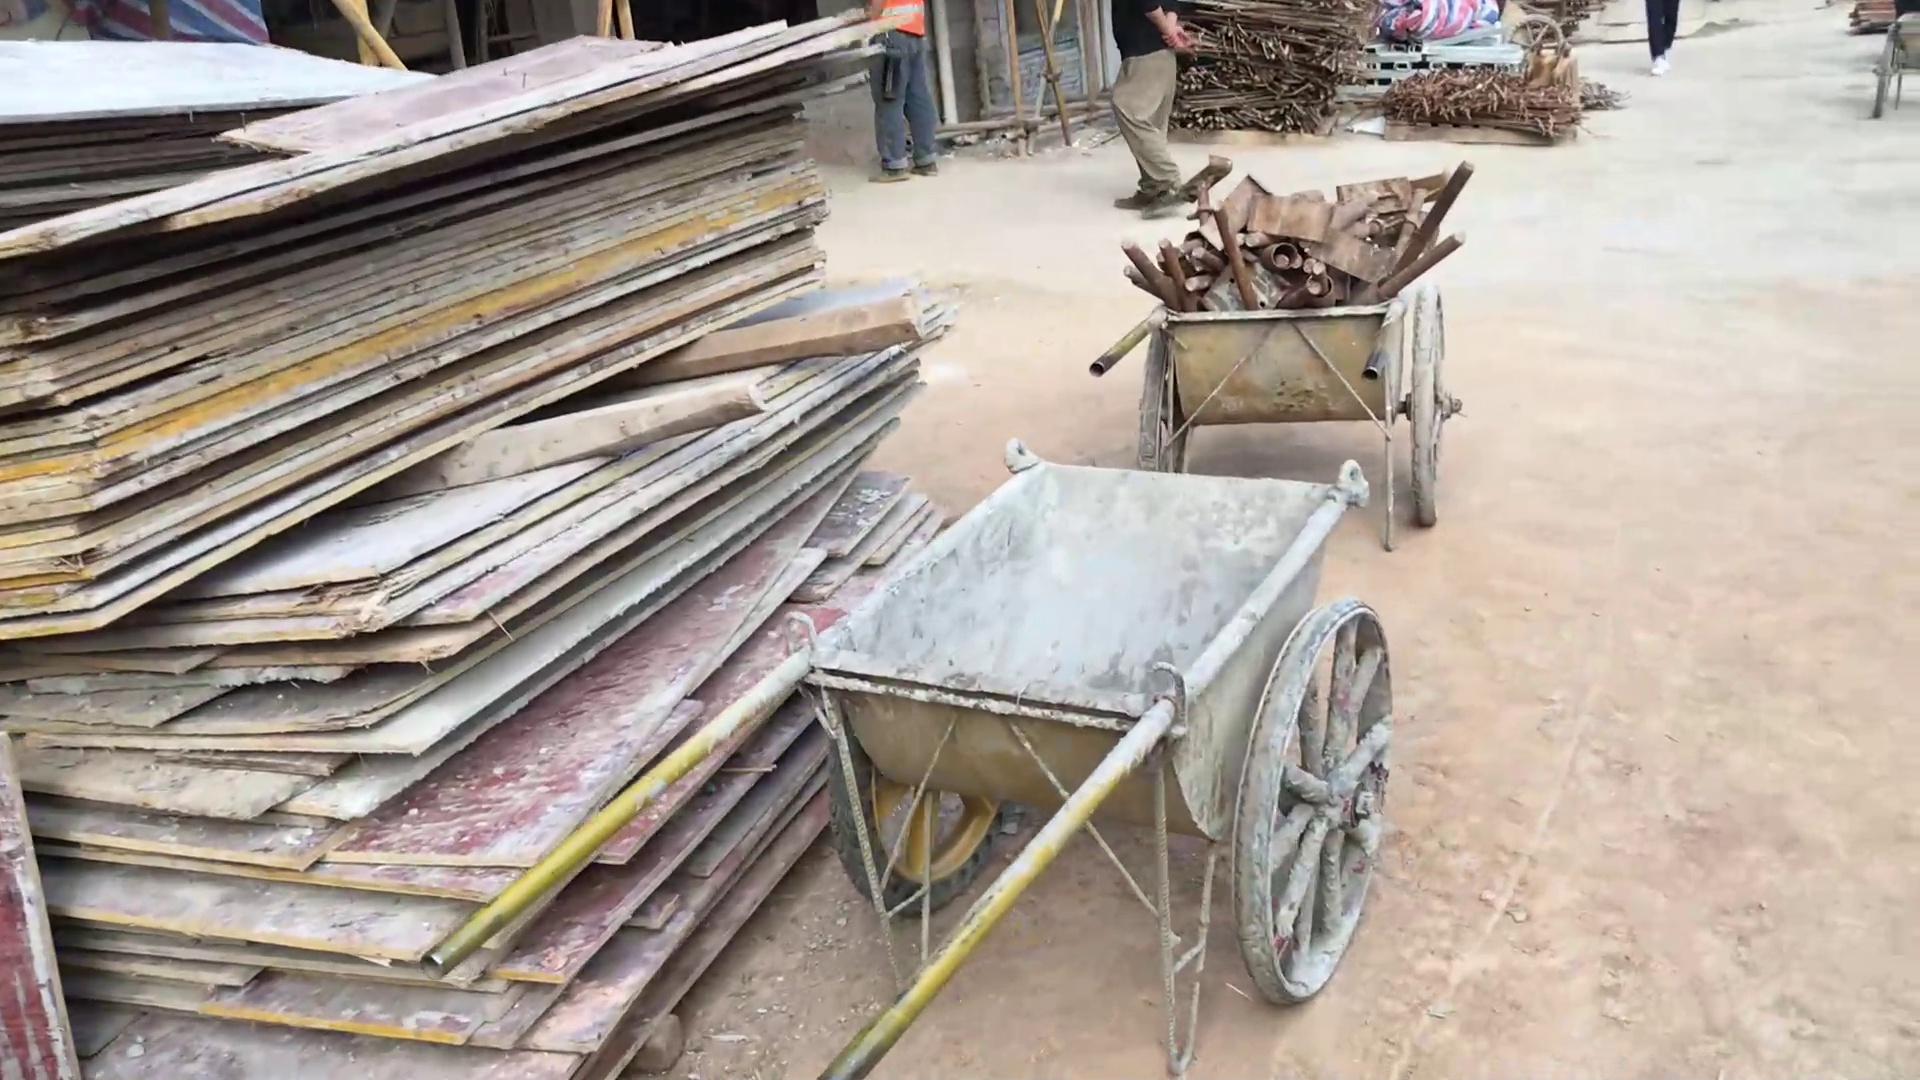board: (6, 7, 950, 1080)
handcart: (405, 433, 1419, 1080), (1067, 255, 1474, 555), (1865, 1, 1918, 147)
person: (1088, 1, 1204, 216), (851, 1, 951, 194), (1636, 1, 1689, 88)
vest: (869, 1, 933, 44)
